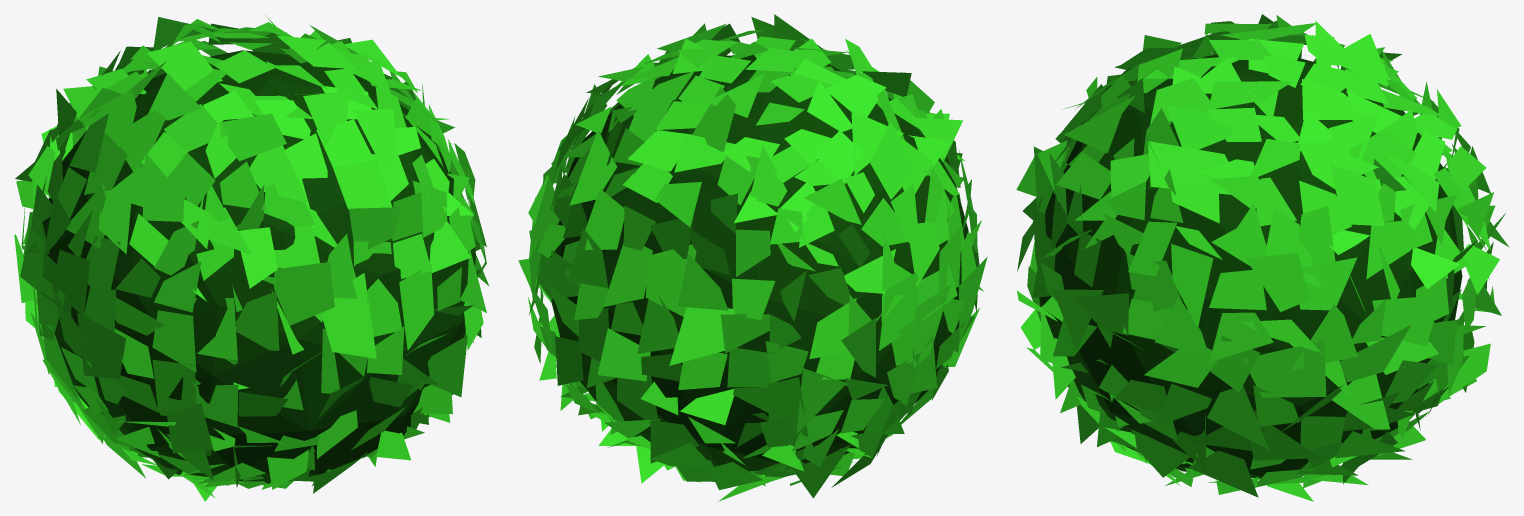
Rendered from hedge.fbx.
3 views of the same model, side by side, from view 1: azimuth 30°, elevation 25°; view 2: azimuth 150°, elevation 25°; view 3: azimuth 270°, elevation 25° (orthographic). The views are drawn at different scales.
Parts seen in each view (by area): view 1: Cube.001, Cube; view 2: Cube.001, Cube; view 3: Cube.001, Cube.
Part boxes in pixels (<box>): Cube.001: <box>14,15,489,501</box>; Cube: <box>42,50,475,484</box>; Cube.001: <box>518,14,987,501</box>; Cube: <box>550,54,969,471</box>; Cube.001: <box>1016,14,1509,501</box>; Cube: <box>1039,54,1462,478</box>.
Bounding box in the file's own units: 1166 × 1241 × 1279.
